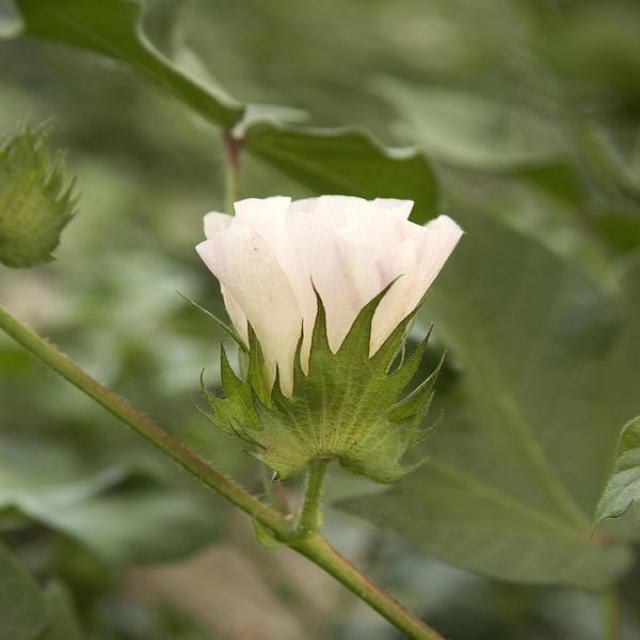Cotton Blossom: (201, 193, 455, 521)
Cotton Bud: (0, 119, 101, 263)
